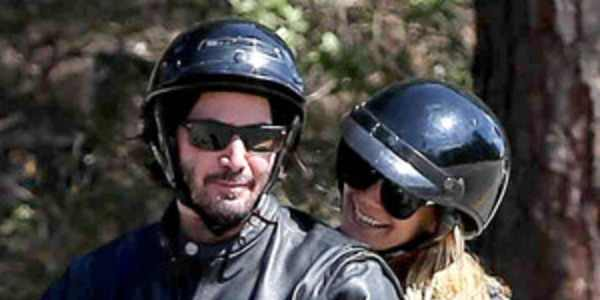helmet: (141, 8, 331, 227), (332, 59, 505, 280)
